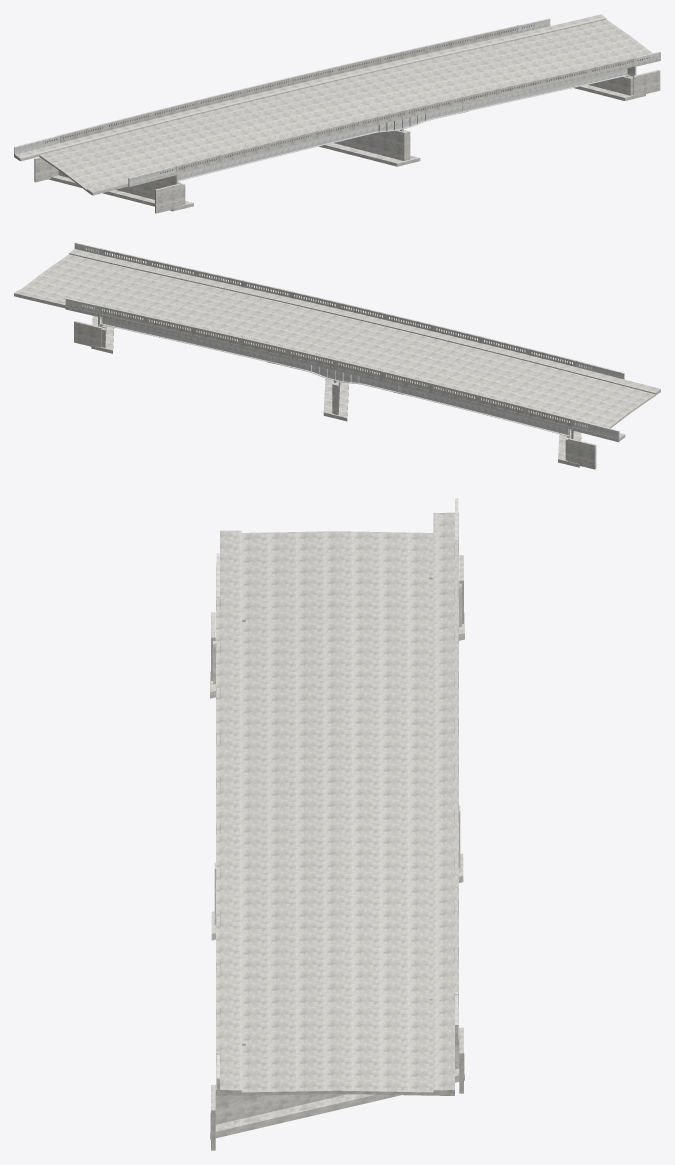
The model's file is model_render.glb.
The picture shows the model from 3 angles, top to bottom: view 1: azimuth 30°, elevation 25°; view 2: azimuth 150°, elevation 25°; view 3: azimuth 270°, elevation 25°; orthographic projection. The views are drawn at different scales.
Parts seen in each view (by area): view 1: deck, walk_1, approach_-1, approach_1, girder_1_0, girder_0_0, pier_2_wall, walk_-1, pier_2_footing, wing_1_-1, abut_1_footing, abut_1 (+22 smaller); view 2: deck, walk_-1, approach_-1, approach_1, girder_0_7, girder_1_7, walk_1, wing_1_1, pier_2_footing, approach_walk_-1_-1, wing_3_1, ttx_-1_1 (+14 smaller); view 3: deck, approach_1, walk_-1, walk_1, approach_-1, abut_3_footing, abut_3, approach_walk_1_1, approach_walk_-1_-1.
Part boxes in pixels (<box>): deck: <box>71,37,635,174</box>; walk_1: <box>60,33,529,146</box>; approach_-1: <box>39,147,160,195</box>; approach_1: <box>530,19,652,60</box>; girder_1_0: <box>402,68,628,129</box>; girder_0_0: <box>178,119,402,181</box>; pier_2_wall: <box>334,130,410,160</box>; walk_-1: <box>176,64,635,173</box>; pier_2_footing: <box>319,143,420,166</box>; wing_1_-1: <box>155,183,182,213</box>; abut_1_footing: <box>49,175,193,211</box>; abut_1: <box>58,170,185,204</box>; deck: <box>99,262,575,429</box>; walk_-1: <box>101,255,575,373</box>; approach_-1: <box>573,374,660,428</box>; approach_1: <box>14,254,101,308</box>; girder_0_7: <box>334,370,570,436</box>; girder_1_7: <box>100,317,334,380</box>; walk_1: <box>99,309,572,428</box>; wing_1_1: <box>568,438,596,469</box>; pier_2_footing: <box>323,378,348,421</box>; approach_walk_-1_-1: <box>575,367,660,394</box>; wing_3_1: <box>74,321,102,347</box>; ttx_-1_1: <box>573,418,619,438</box>; deck: <box>241,563,433,1060</box>; approach_1: <box>220,1015,454,1095</box>; walk_-1: <box>216,604,241,1064</box>; walk_1: <box>433,555,458,1012</box>; approach_-1: <box>241,531,433,605</box>; abut_3_footing: <box>210,1053,464,1139</box>; abut_3: <box>214,1027,461,1124</box>; approach_walk_1_1: <box>433,1007,454,1092</box>; approach_walk_-1_-1: <box>220,530,241,608</box>.
Size of the model in its own units: 116 by 10.5 by 21.88.
4 materials, 3 textured.
